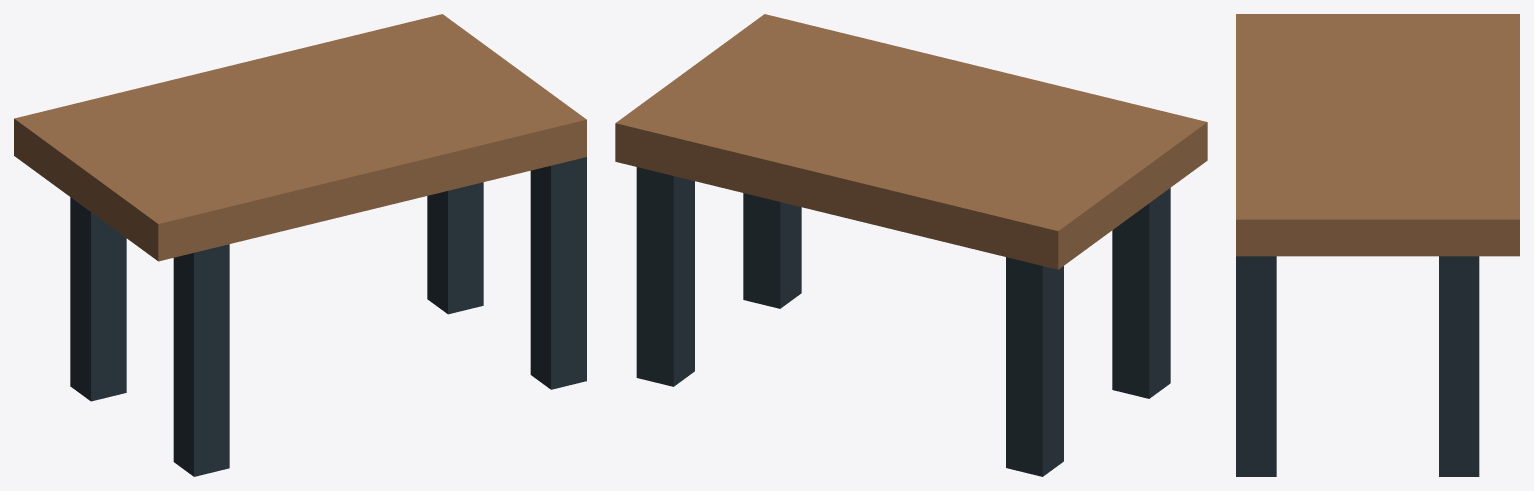
File: beauty-17.glb
3 renders of one model, left to right at view 1: azimuth 30°, elevation 25°; view 2: azimuth 150°, elevation 25°; view 3: azimuth 270°, elevation 25°, orthographic. The views are drawn at different scales.
Parts seen in each view (by area): view 1: Manicure station; view 2: Manicure station; view 3: Manicure station.
Part boxes in pixels (x1,y1,x2,y2): Manicure station: (14, 14, 586, 476); Manicure station: (615, 14, 1207, 476); Manicure station: (1236, 14, 1519, 476).
Bounding box in the file's own units: 1.92 × 1.12 × 1.12.
